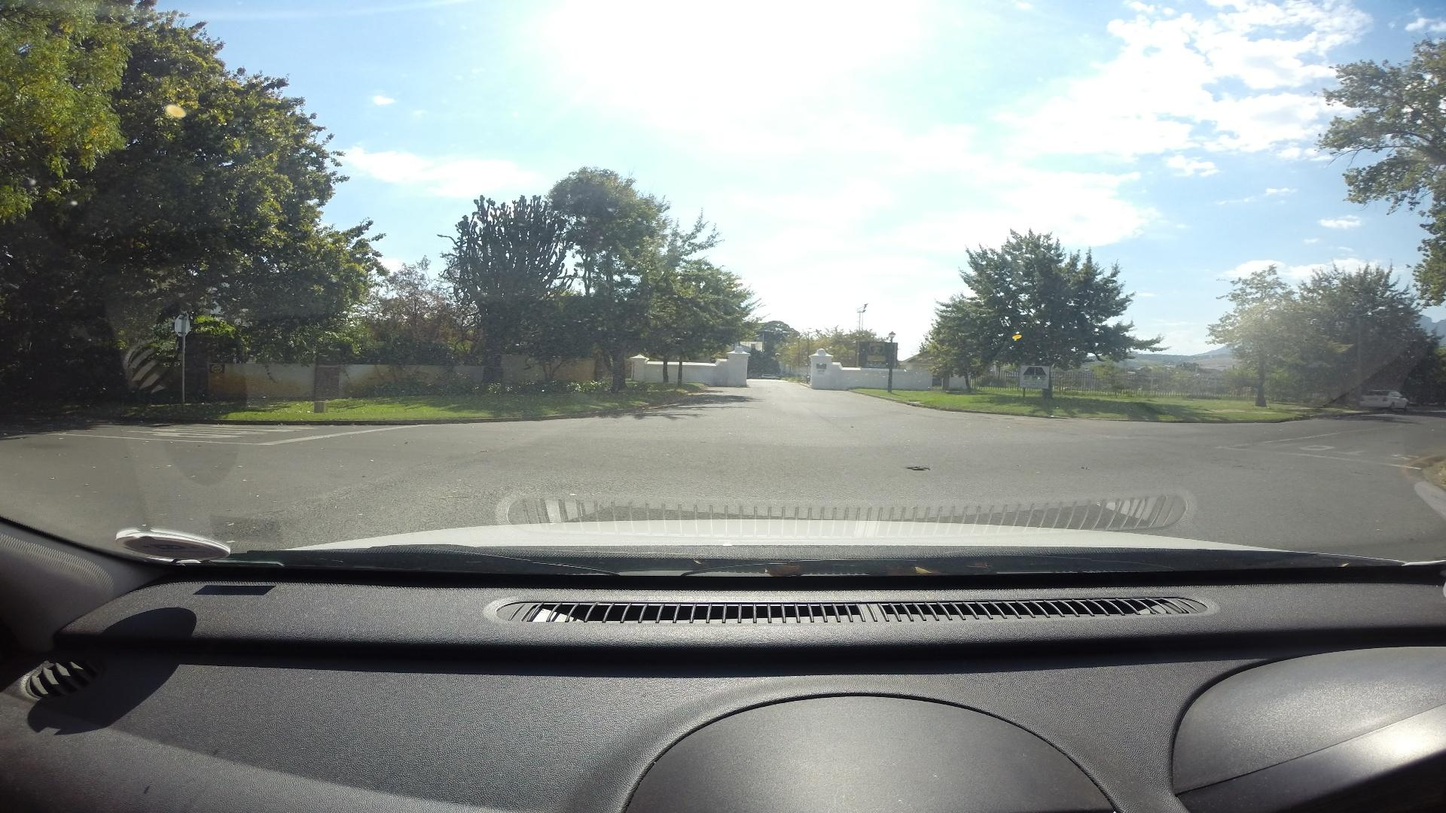pothole: (906, 465, 929, 470)
